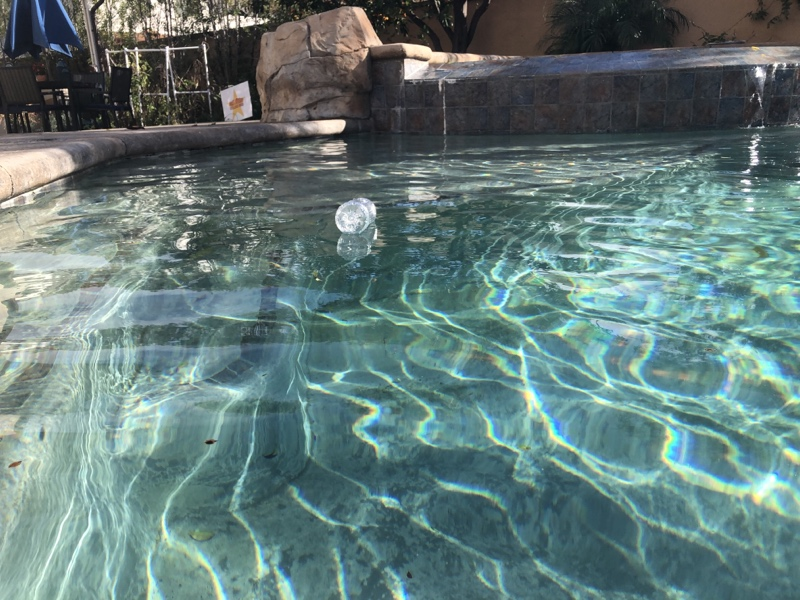Plastic Bottle: (333, 195, 379, 238)
